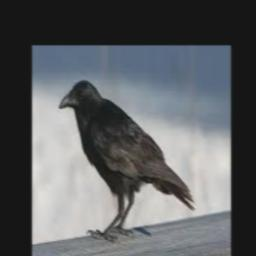Crow: (59, 80, 197, 242)
